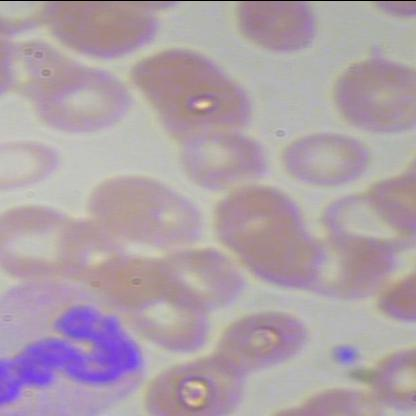Platelets: (327, 340, 363, 366)
RBC: (36, 60, 140, 144), (323, 44, 415, 137), (143, 346, 255, 416), (0, 200, 90, 284), (294, 228, 392, 305), (173, 124, 279, 190), (159, 246, 252, 314), (220, 308, 312, 376), (278, 126, 372, 188), (232, 1, 329, 54), (1, 130, 67, 198)
WBC: (0, 280, 154, 416)
